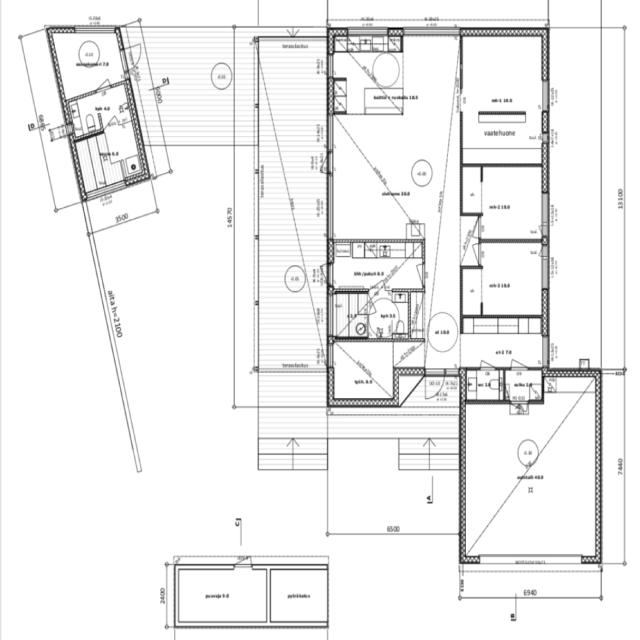door: (119, 38, 147, 72), (423, 368, 445, 402), (232, 553, 255, 572), (510, 399, 530, 418), (508, 356, 528, 373), (476, 357, 495, 373), (322, 264, 334, 284)
window: (540, 552, 584, 570), (325, 174, 337, 239), (344, 24, 392, 40), (74, 24, 116, 36), (325, 112, 336, 157), (539, 251, 551, 292), (539, 190, 551, 230), (539, 78, 552, 113), (325, 292, 334, 338), (540, 334, 552, 367), (325, 150, 336, 177), (325, 54, 335, 79), (326, 344, 335, 370), (418, 261, 427, 286)
zone: (331, 38, 459, 240), (458, 34, 546, 164), (76, 97, 142, 197), (172, 567, 270, 626), (478, 240, 546, 318), (55, 31, 128, 102), (331, 241, 426, 294), (480, 165, 546, 241), (458, 316, 546, 369), (330, 338, 396, 406), (366, 294, 414, 340), (329, 292, 368, 338), (502, 367, 544, 402), (464, 368, 504, 402), (461, 166, 483, 214)
